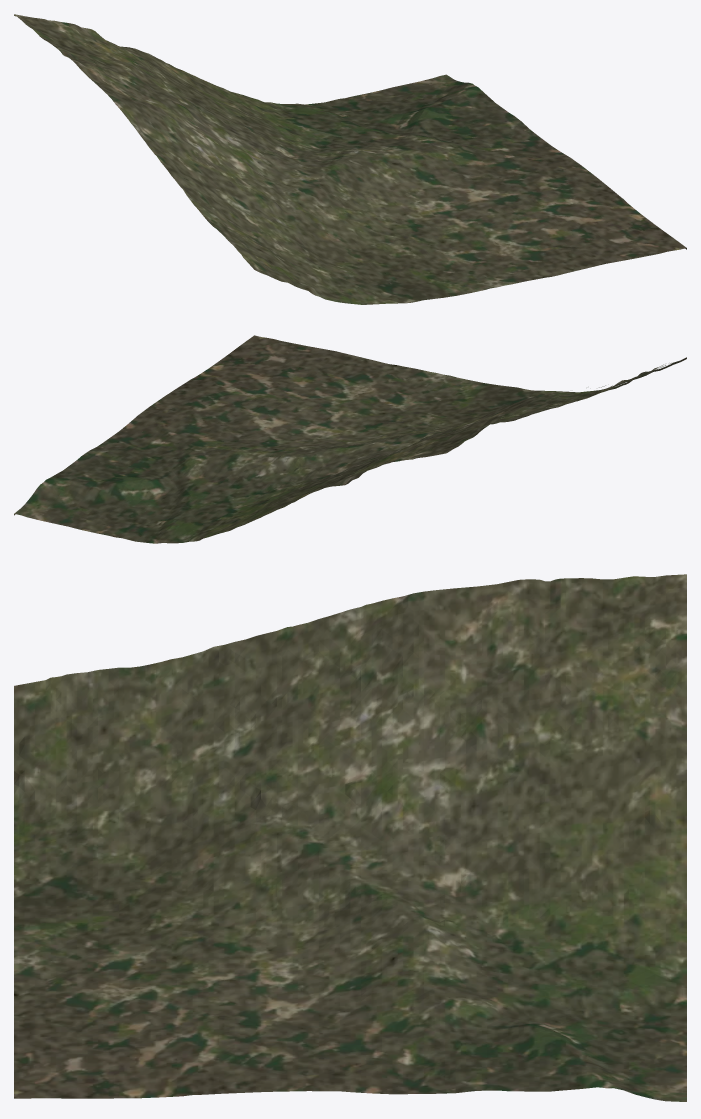
The picture shows the model from 3 angles, top to bottom: view 1: azimuth 30°, elevation 25°; view 2: azimuth 150°, elevation 25°; view 3: azimuth 270°, elevation 25°; orthographic projection. The views are drawn at different scales.
Bounding box in the file's own units: 250 × 92.83 × 241.
1 material, 1 textured.
